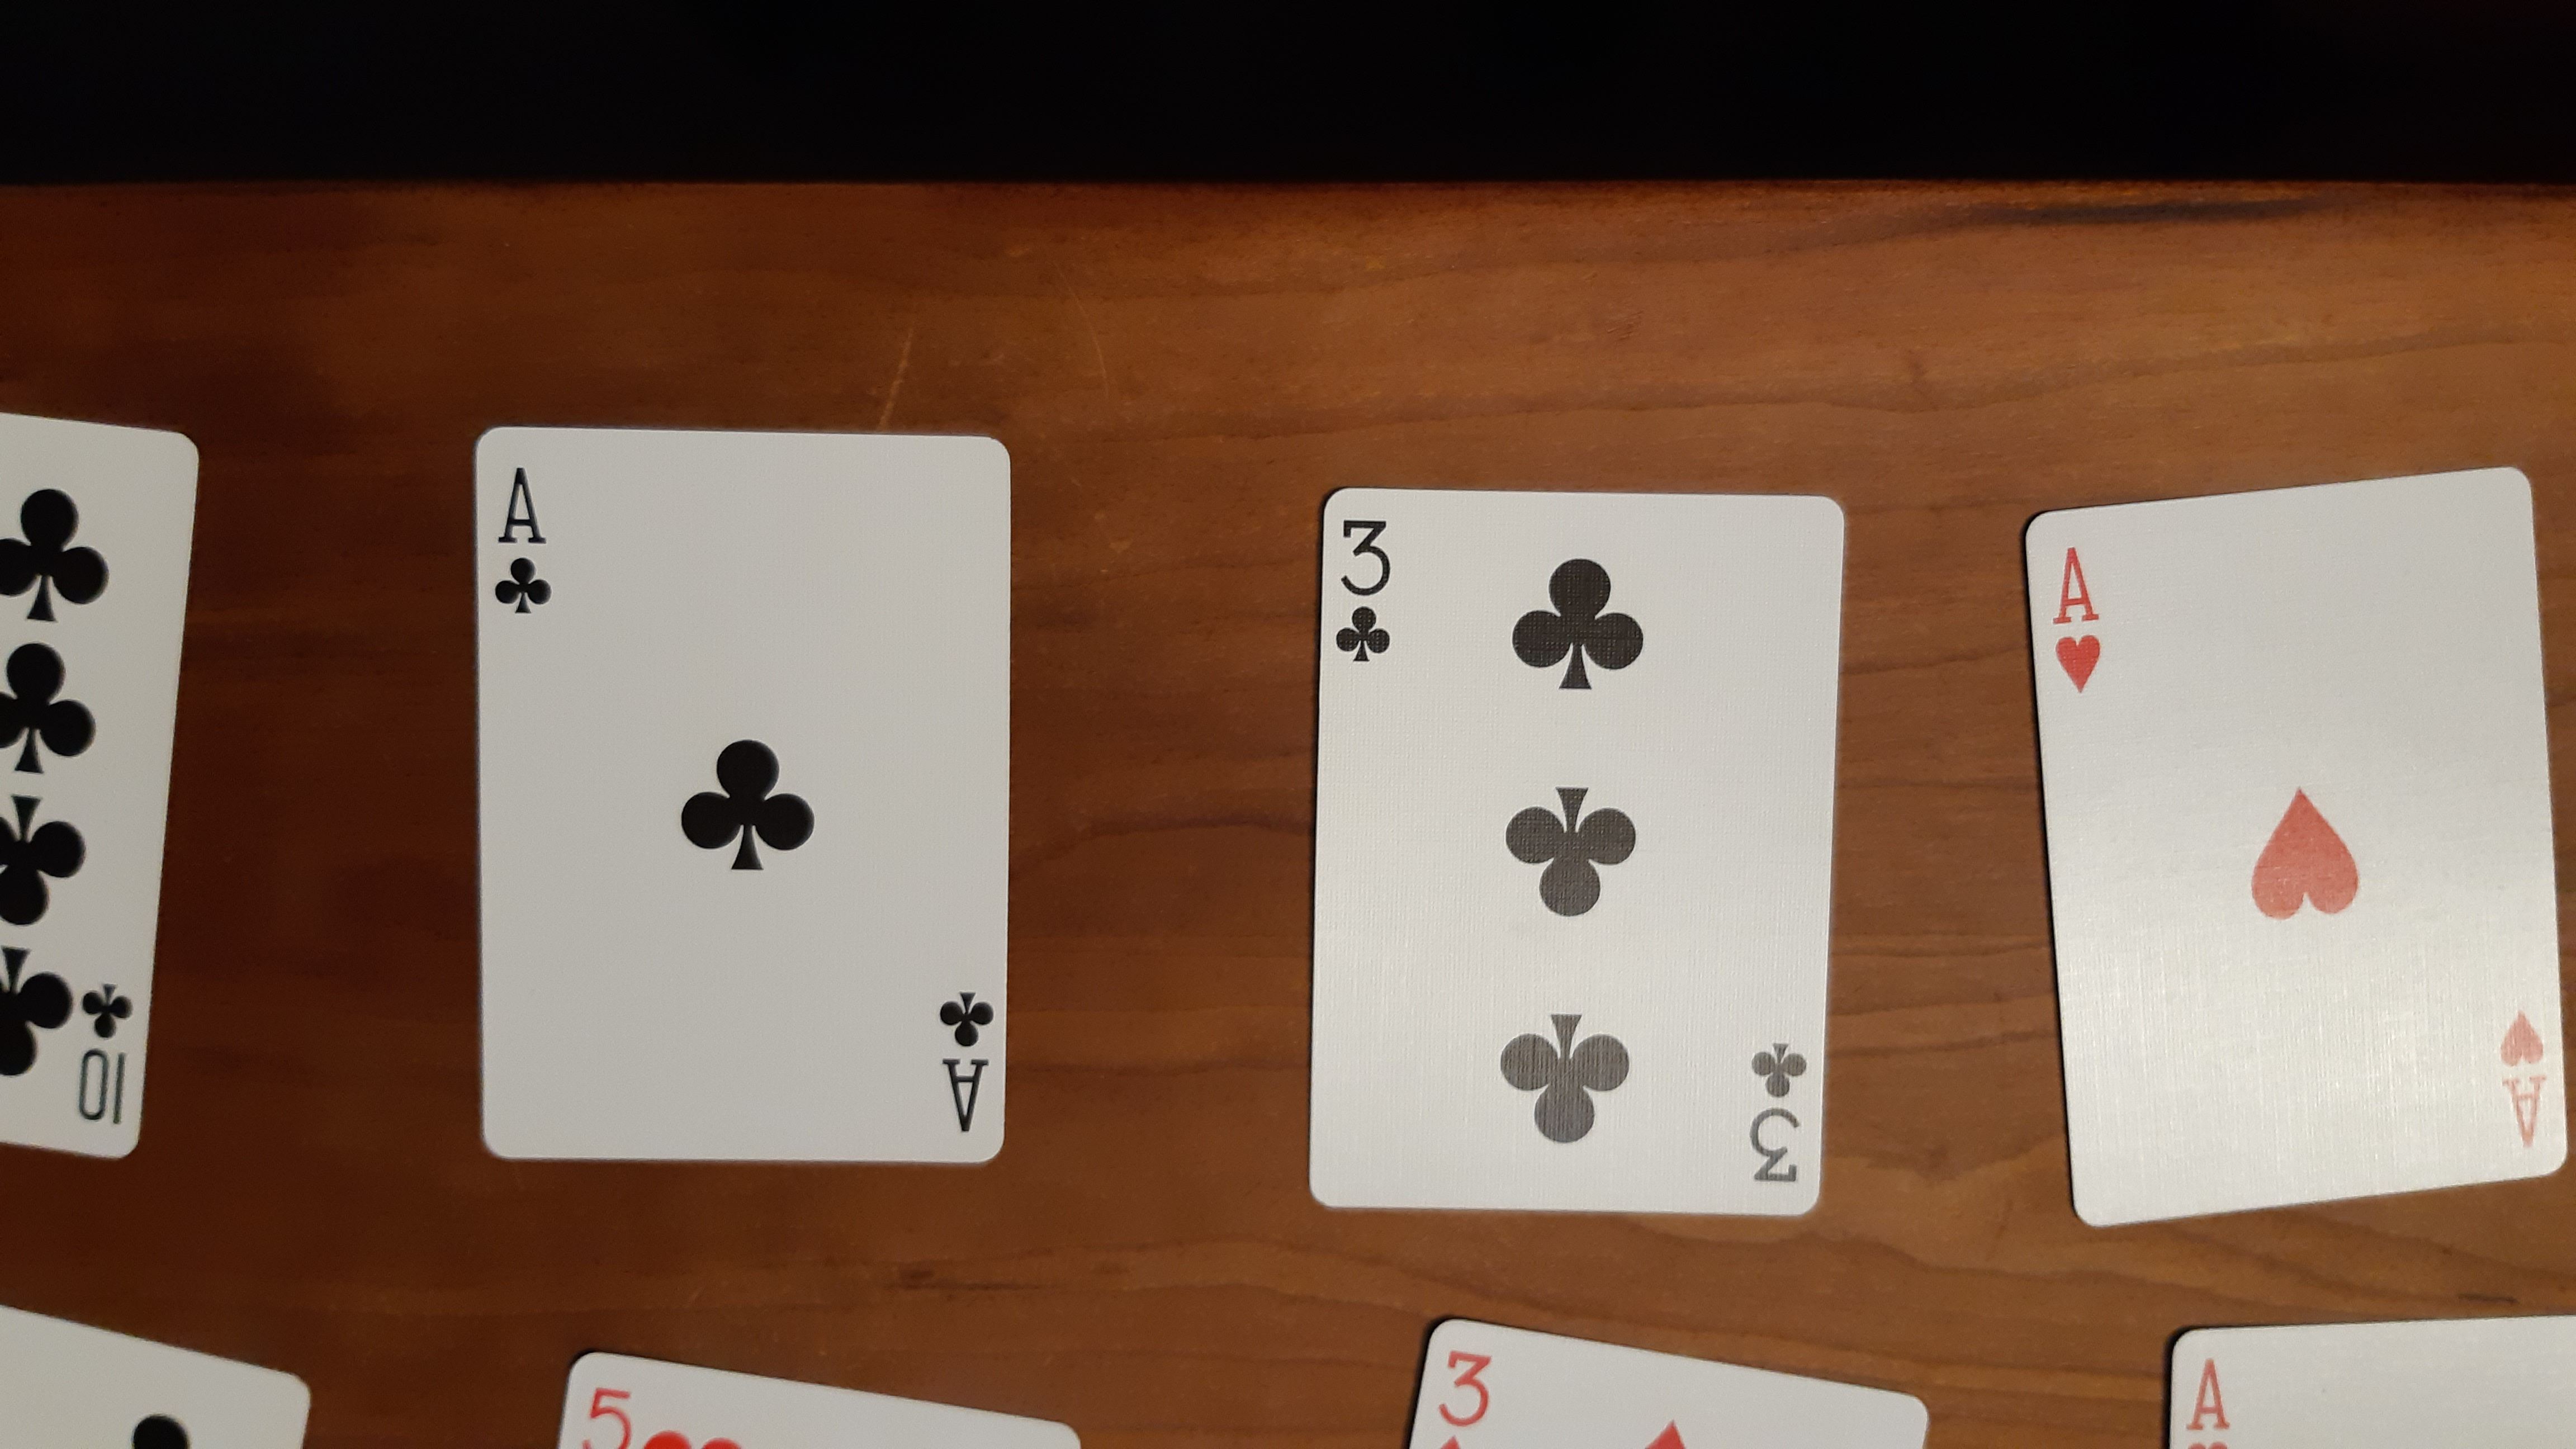Black_Club_10: (67, 978, 145, 1132)
Black_Club_3: (1737, 1031, 1808, 1196), (1332, 515, 1403, 665)
Black_Club_Ace: (487, 458, 559, 617), (932, 984, 1001, 1139)
Red_Heart_Ace: (2038, 541, 2114, 695), (2488, 1003, 2560, 1159)
